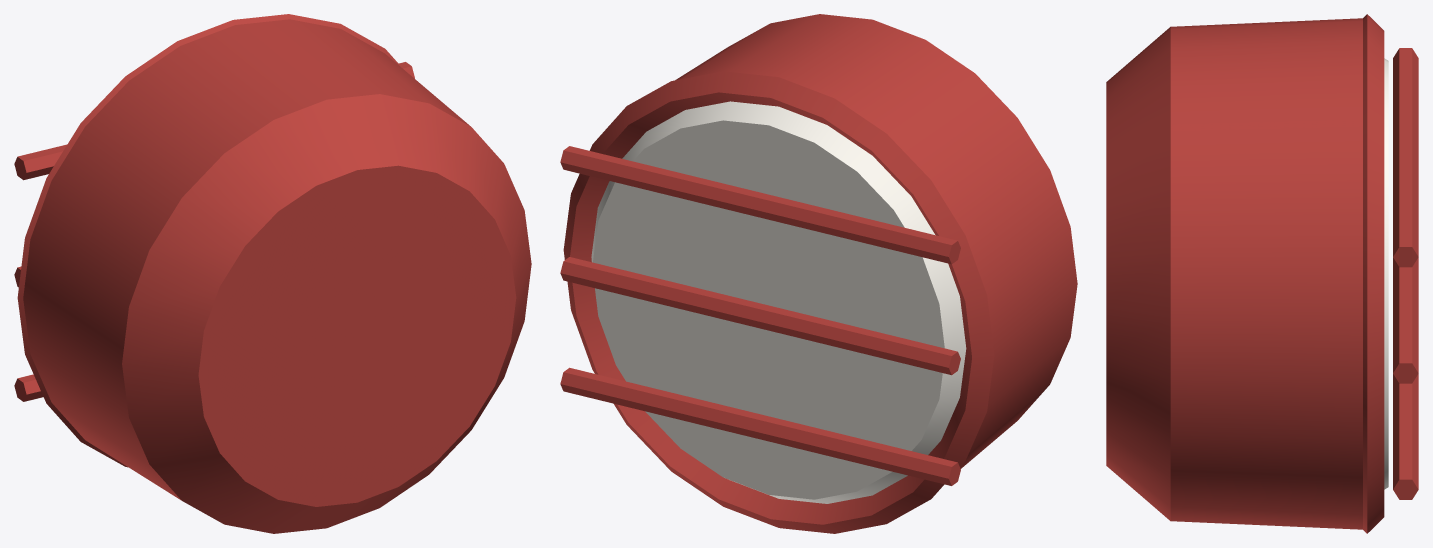
Rendered from rally.glb.
3 views of the same model, side by side, from view 1: azimuth 30°, elevation 25°; view 2: azimuth 150°, elevation 25°; view 3: azimuth 270°, elevation 25° (orthographic). The views are drawn at different scales.
Visible parts, largest first — view 1: lod0; view 2: lod0; view 3: lod0.
Boxes of the visible parts, x1=… form: lod0: x1=14, y1=14, x2=531, y2=533; lod0: x1=560, y1=14, x2=1077, y2=533; lod0: x1=1106, y1=14, x2=1418, y2=533.
Size of what is drawn, in the model's own units: 0.122 by 0.122 by 0.073.
